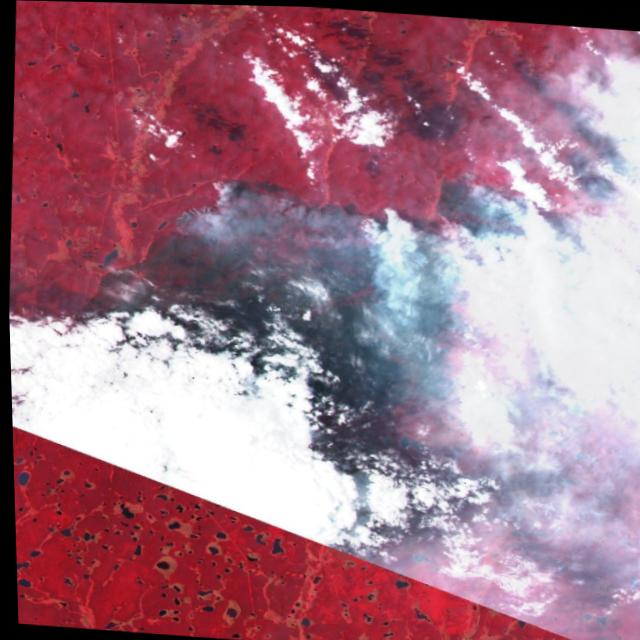fire: (166, 161, 244, 236), (351, 204, 404, 237)
